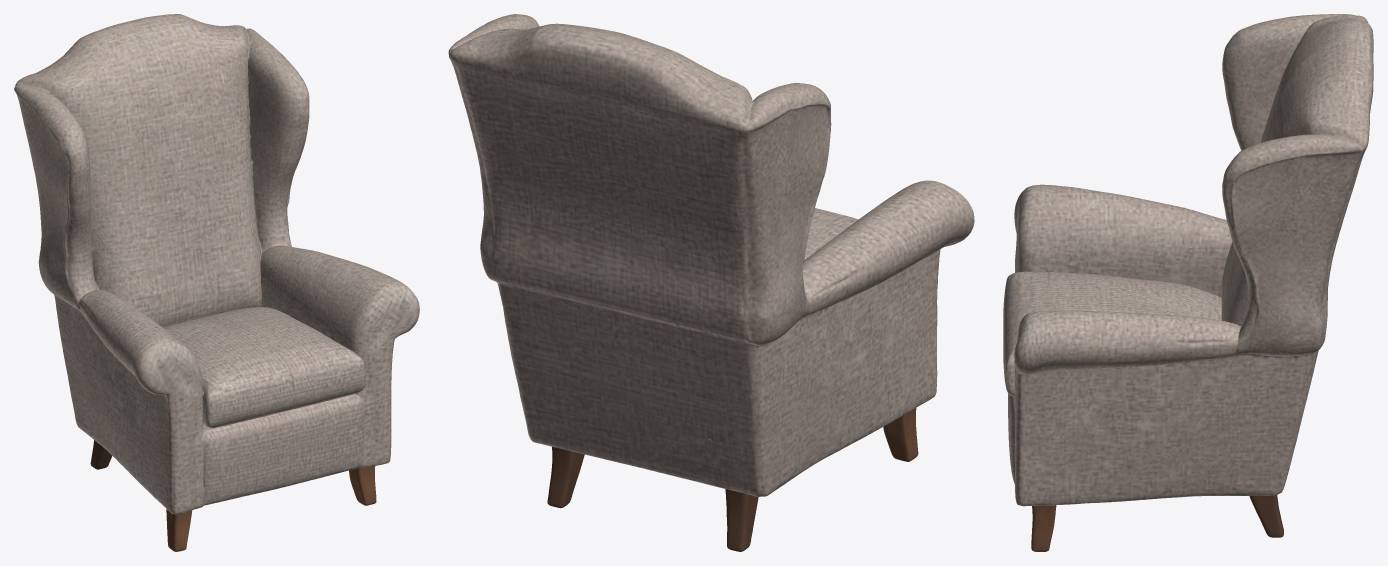
Rendered from armchair.glb.
The picture shows the model from 3 angles, left to right: view 1: azimuth 30°, elevation 25°; view 2: azimuth 150°, elevation 25°; view 3: azimuth 270°, elevation 25°; orthographic projection. The views are drawn at different scales.
Visible parts, largest first — view 1: world; view 2: world; view 3: world.
Boxes of the visible parts, box(x1,y1,x2,y2) form: world: box(14, 14, 419, 551); world: box(448, 14, 974, 551); world: box(1003, 14, 1373, 551).
Bounding box in the file's own units: 0.7297 × 1 × 0.7343.
Materials: 1 (1 with a texture image).
